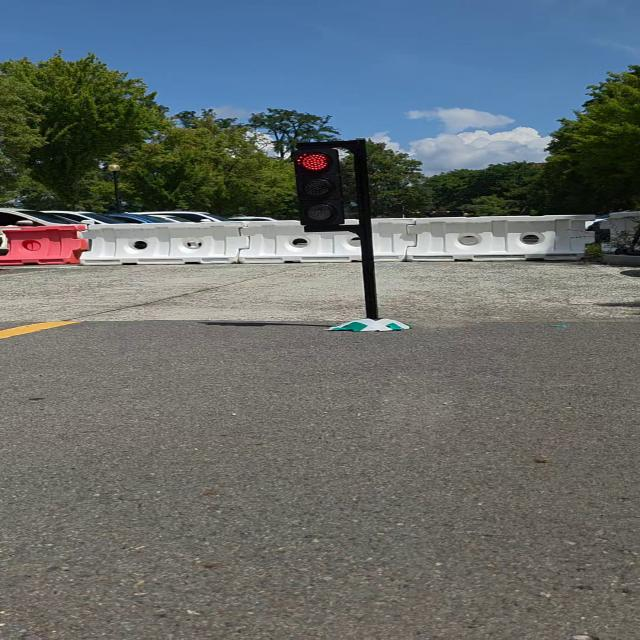red: (292, 147, 348, 231)
